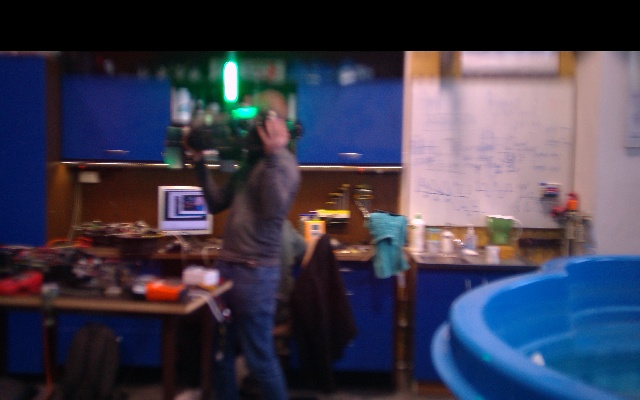green: (223, 59, 238, 107)
